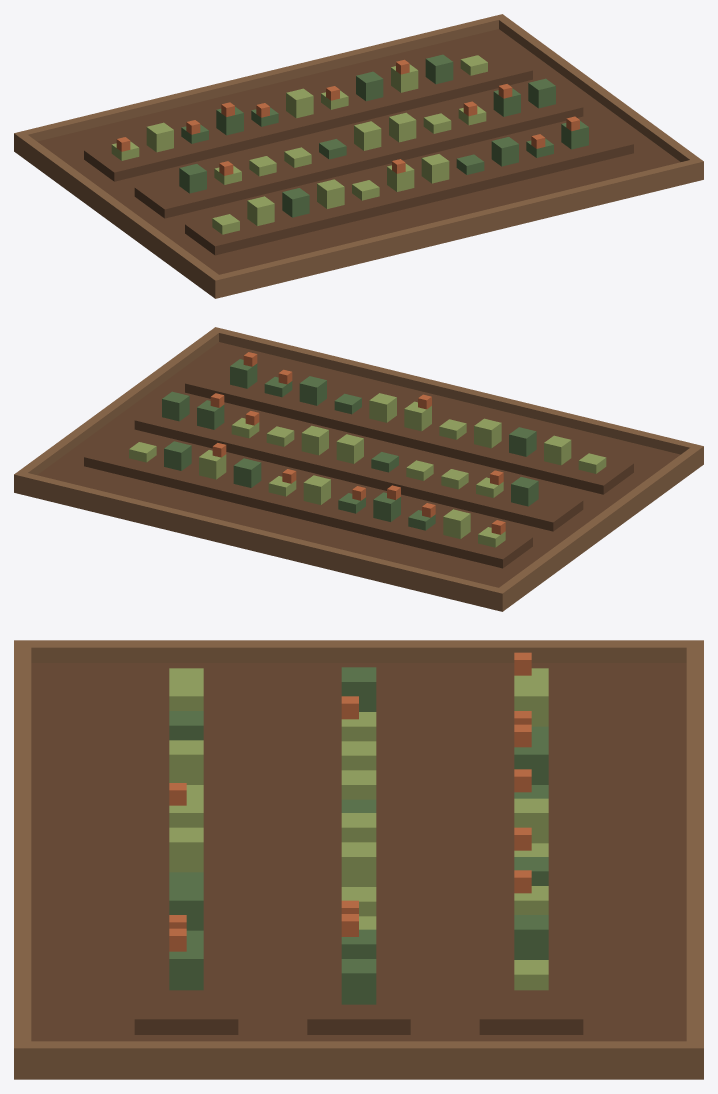
File: hearthvale_garden_kitchen_56x40.obj
3 views of the same model, one above another, from view 1: azimuth 30°, elevation 25°; view 2: azimuth 150°, elevation 25°; view 3: azimuth 270°, elevation 25° (orthographic). The views are drawn at different scales.
Parts seen in each view (by area): view 1: palette_2, palette_1, palette_4, palette_3, palette_5; view 2: palette_2, palette_1, palette_4, palette_3, palette_5; view 3: palette_2, palette_1, palette_4, palette_3, palette_5.
Boxes of the visible parts, left/top/right/bottom form: palette_2: left=37, top=29, right=680, bottom=274; palette_1: left=14, top=14, right=703, bottom=298; palette_4: left=111, top=55, right=487, bottom=234; palette_3: left=179, top=54, right=588, bottom=217; palette_5: left=116, top=59, right=579, bottom=175; palette_2: left=37, top=342, right=680, bottom=587; palette_1: left=14, top=327, right=703, bottom=611; palette_4: left=129, top=393, right=606, bottom=547; palette_3: left=162, top=359, right=538, bottom=530; palette_5: left=210, top=352, right=505, bottom=534; palette_2: left=31, top=663, right=686, bottom=1041; palette_1: left=14, top=640, right=703, bottom=1079; palette_4: left=169, top=668, right=548, bottom=990; palette_3: left=169, top=667, right=548, bottom=1004; palette_5: left=169, top=652, right=531, bottom=951.
Size of the model in its own units: 3.5 by 0.3125 by 2.5.
